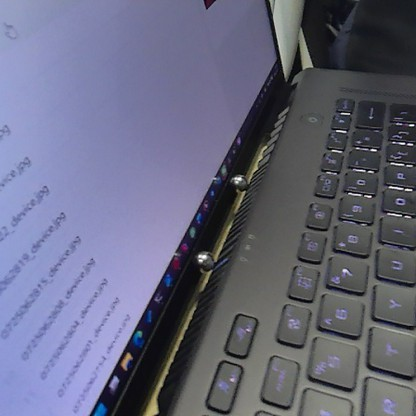ironball: (224, 171, 248, 195), (192, 249, 214, 274)
